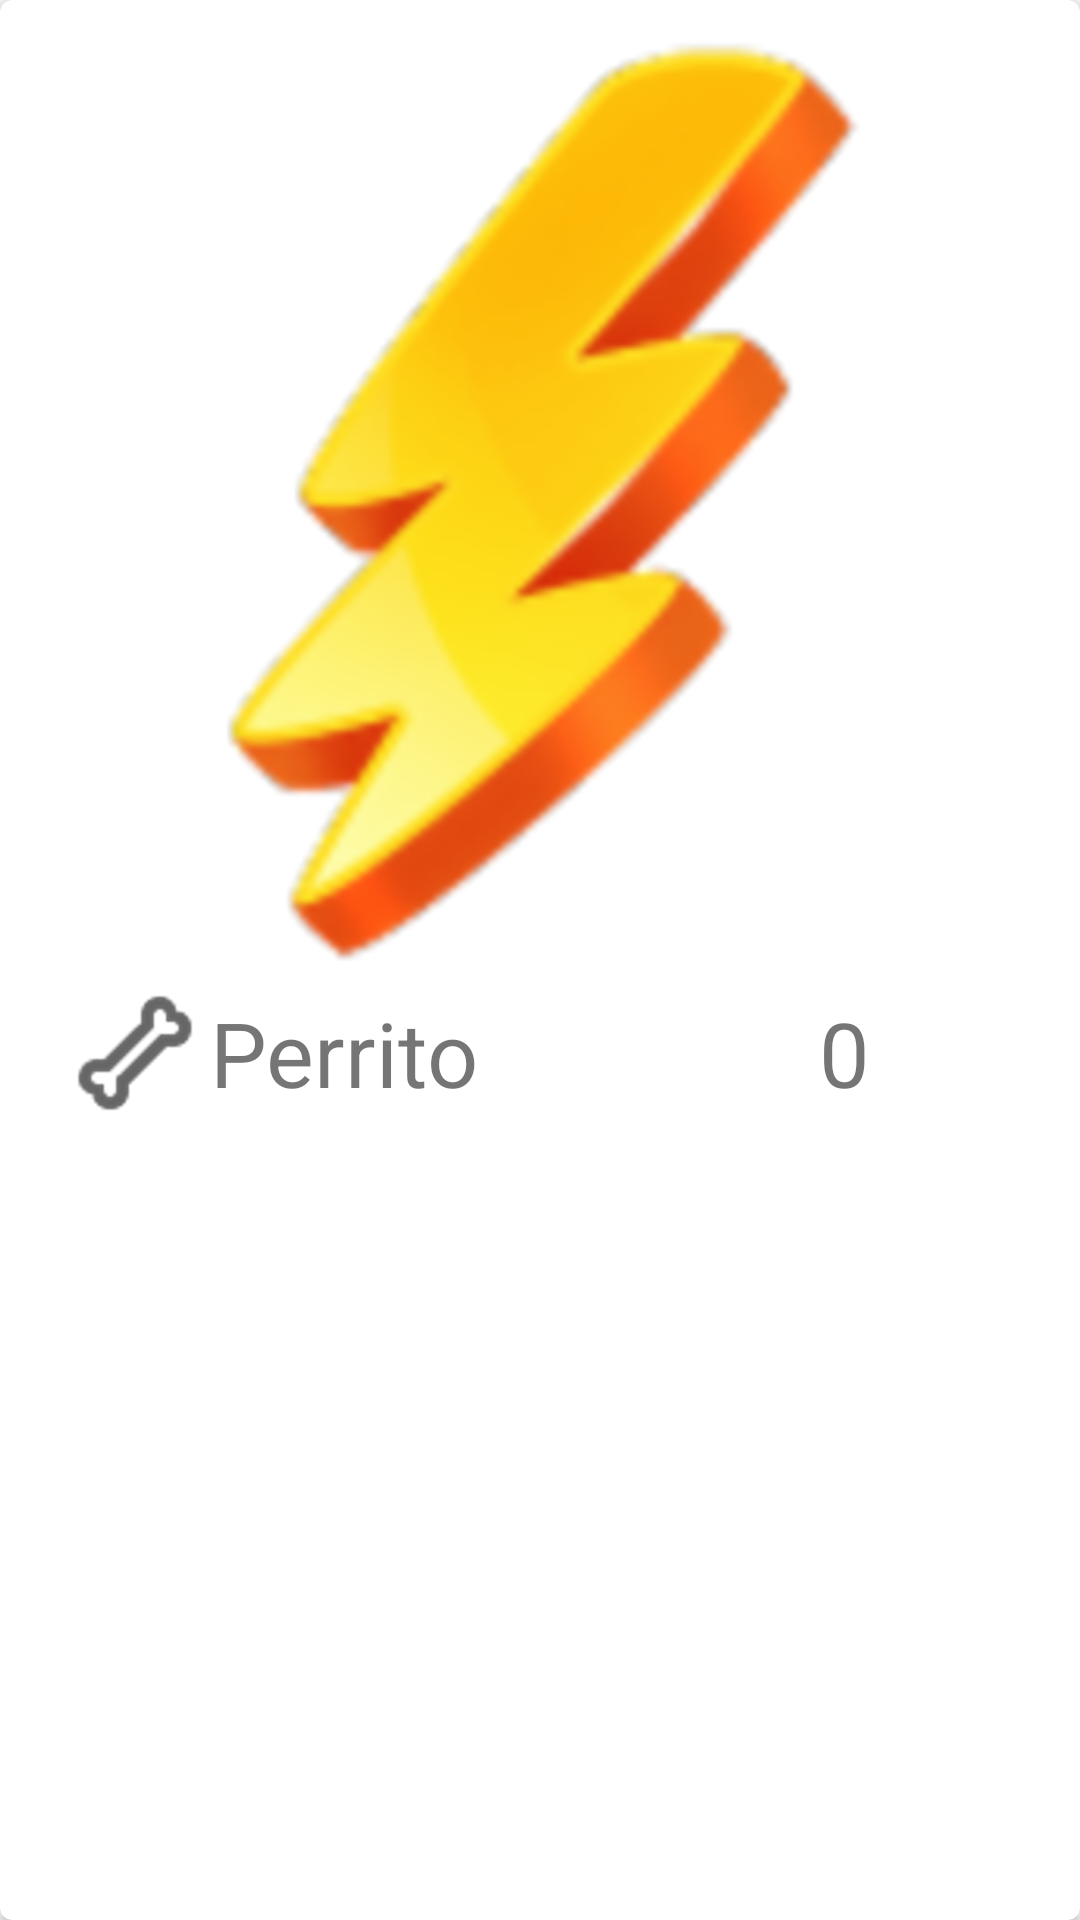

Locate icon controls on the screen. Image size 1080 × 1920, boxes as (x1, y1, x2, y2).
bone: (78, 996, 192, 1110)
